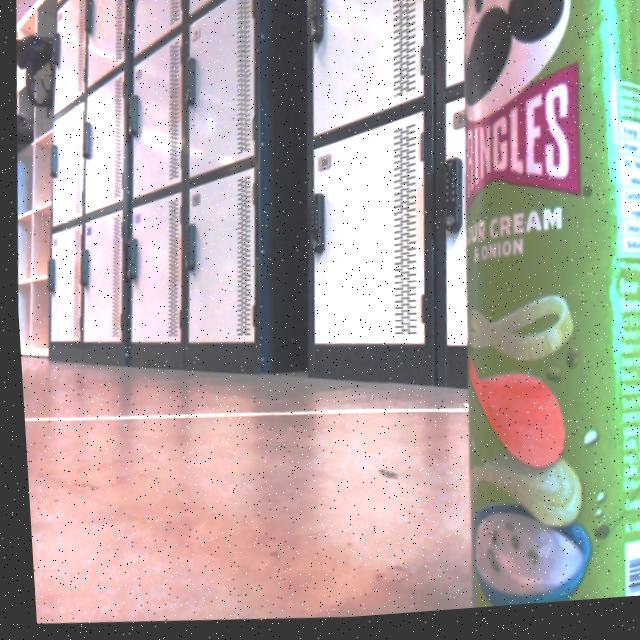greenpringles: (423, 0, 640, 615)
